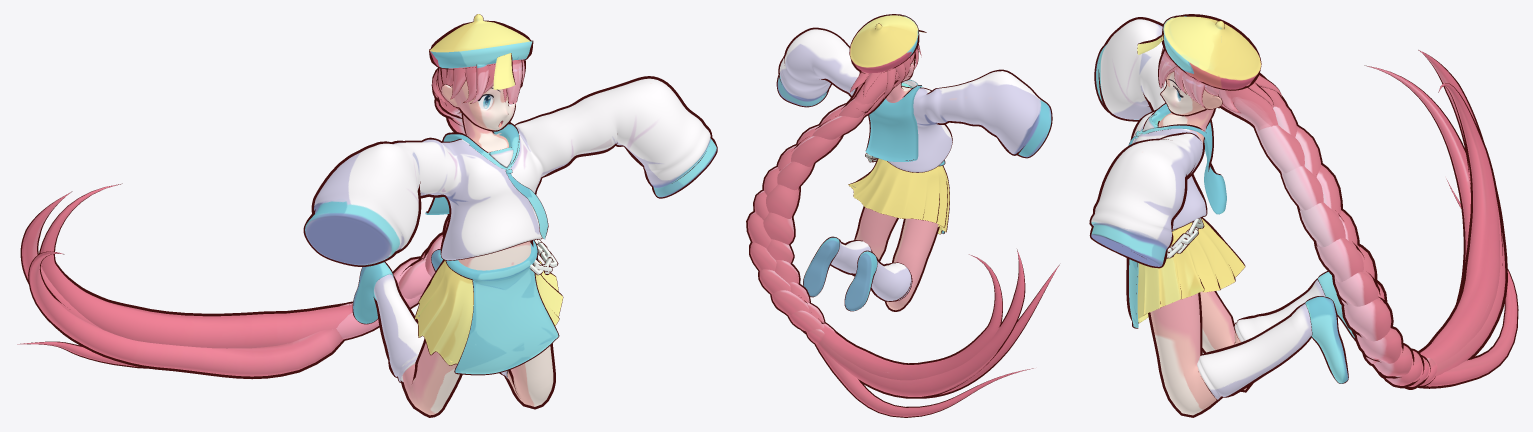
File: waifu4.glb
The picture shows the model from 3 angles, left to right: view 1: azimuth 30°, elevation 25°; view 2: azimuth 150°, elevation 25°; view 3: azimuth 270°, elevation 25°; orthographic projection. The views are drawn at different scales.
Parts seen in each view (by area): view 1: Shirt, HairEnd, Apron, Body, Skirt, Hat, Socks, Head, Shoes, Braid3.001, Braid3.002, Collar (+2 smaller); view 2: Shirt, HairEnd, Skirt, Braid3.002, Braid3.001, Body, Hat, Braid3, Collar, Shoes, Socks, BezierCurve.022 (+1 smaller); view 3: Shirt, HairEnd, Body, Socks, Hat, Braid3.002, Skirt, Braid3.001, Braid3, Shoes, Head, Collar (+4 smaller).
Part boxes in pixels (x1=…): Shirt: x1=303, y1=76, x2=717, y2=266; HairEnd: x1=17, y1=183, x2=352, y2=379; Apron: x1=445, y1=240, x2=559, y2=375; Body: x1=400, y1=240, x2=555, y2=417; Skirt: x1=414, y1=258, x2=563, y2=365; Hat: x1=429, y1=14, x2=533, y2=69; Socks: x1=373, y1=274, x2=508, y2=382; Head: x1=440, y1=80, x2=523, y2=152; Shoes: x1=352, y1=249, x2=442, y2=324; Braid3.001: x1=336, y1=99, x2=510, y2=341; Braid3.002: x1=349, y1=99, x2=465, y2=306; Collar: x1=425, y1=122, x2=519, y2=214; Shirt: x1=776, y1=27, x2=1052, y2=172; HairEnd: x1=813, y1=249, x2=1059, y2=417; Skirt: x1=848, y1=158, x2=949, y2=234; Braid3.002: x1=749, y1=103, x2=872, y2=333; Braid3.001: x1=746, y1=113, x2=866, y2=334; Body: x1=852, y1=206, x2=939, y2=311; Hat: x1=849, y1=14, x2=919, y2=73; Braid3: x1=753, y1=96, x2=873, y2=344; Collar: x1=865, y1=83, x2=921, y2=161; Shoes: x1=803, y1=236, x2=877, y2=311; Socks: x1=830, y1=239, x2=912, y2=301; BezierCurve.022: x1=846, y1=71, x2=898, y2=116; Shirt: x1=1089, y1=17, x2=1207, y2=268; HairEnd: x1=1364, y1=50, x2=1518, y2=388; Body: x1=1148, y1=291, x2=1253, y2=417; Socks: x1=1197, y1=278, x2=1325, y2=400; Hat: x1=1161, y1=14, x2=1261, y2=90; Braid3.002: x1=1254, y1=125, x2=1430, y2=388; Skirt: x1=1137, y1=217, x2=1245, y2=323; Braid3.001: x1=1295, y1=123, x2=1424, y2=389; Braid3: x1=1273, y1=101, x2=1437, y2=387; Shoes: x1=1305, y1=271, x2=1355, y2=383; Head: x1=1157, y1=72, x2=1222, y2=149; Collar: x1=1142, y1=103, x2=1226, y2=214.
Size of the model in its own units: 3.48 by 2.64 by 2.51.
Materials: 5 (3 with a texture image).
